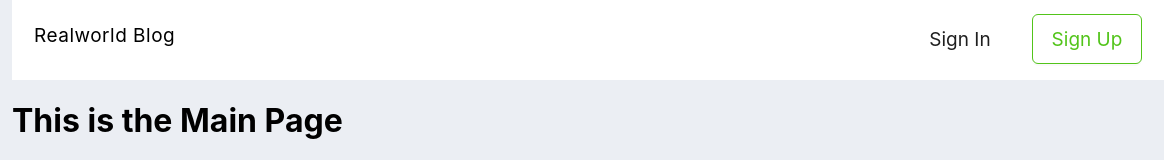
Test: Component: Header › should redirect to the Login Page when login button is clicked
Expected: the heading "This is the Main Page" is shown, [12, 101, 343, 140]
Click the button "Sign In".
click(960, 39)  # box [905, 14, 1015, 64]
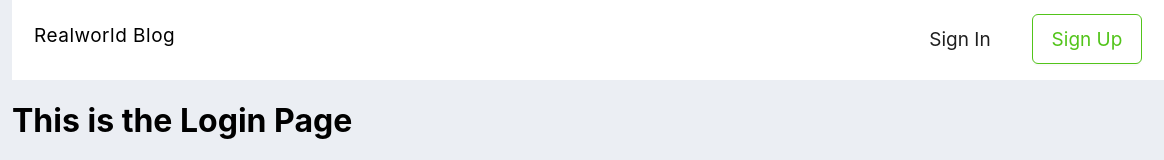
Result: the heading "This is the Login Page" is shown at [12, 101, 352, 140]
